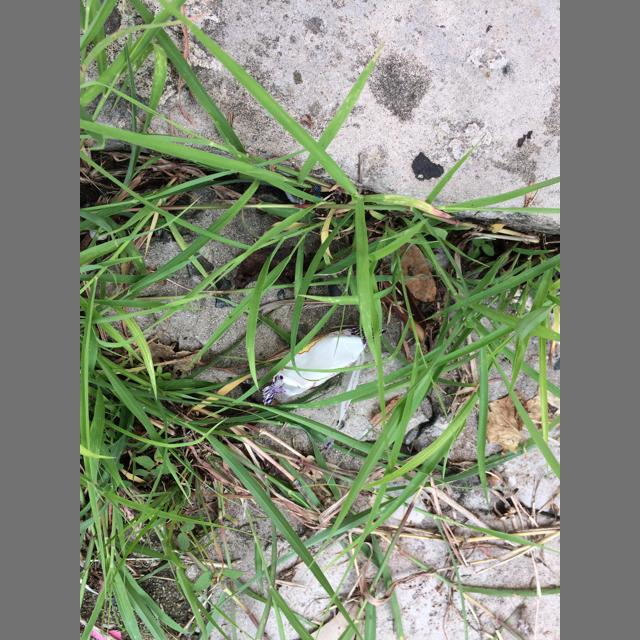litter: (262, 326, 368, 450)
